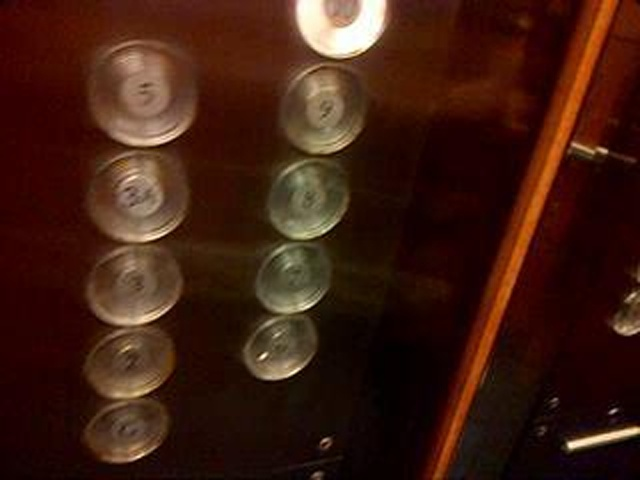2: (80, 326, 176, 399)
3: (85, 244, 183, 326)
5: (85, 39, 200, 149)
7: (253, 241, 332, 315)
8: (267, 157, 350, 240)
9: (282, 62, 367, 155)
G: (83, 400, 170, 464)
blur: (86, 149, 190, 242), (240, 315, 318, 380)
